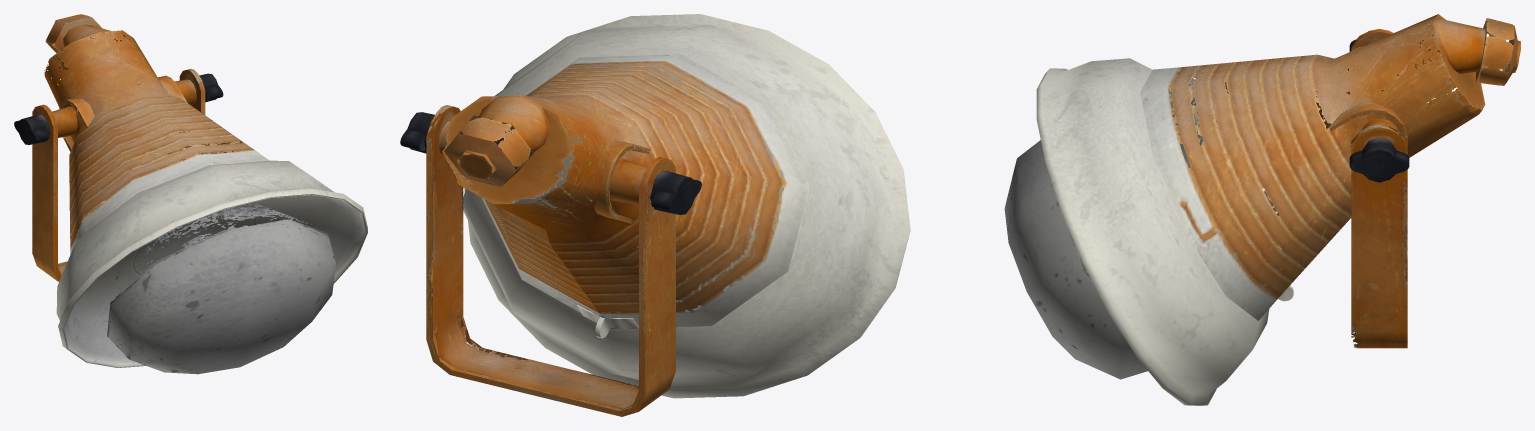
The model's file is wall_light_10.fbx.
The picture shows the model from 3 angles, left to right: view 1: azimuth 30°, elevation 25°; view 2: azimuth 150°, elevation 25°; view 3: azimuth 270°, elevation 25°; orthographic projection. The views are drawn at different scales.
Parts seen in each view (by area): view 1: wall_light_10; view 2: wall_light_10; view 3: wall_light_10.
Boxes of the visible parts, <box> form: wall_light_10: <box>14,14,367,374</box>; wall_light_10: <box>400,14,910,416</box>; wall_light_10: <box>1004,14,1520,405</box>.
Bounding box in the file's own units: 10.42 × 9.27 × 13.09.
1 material, 1 textured.
